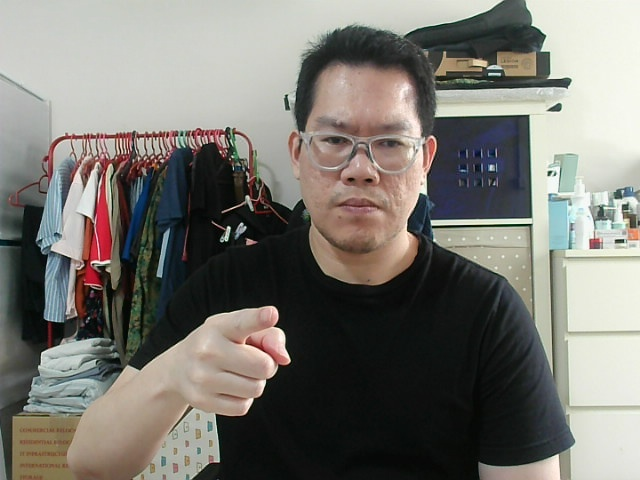you: (175, 318, 281, 405)
